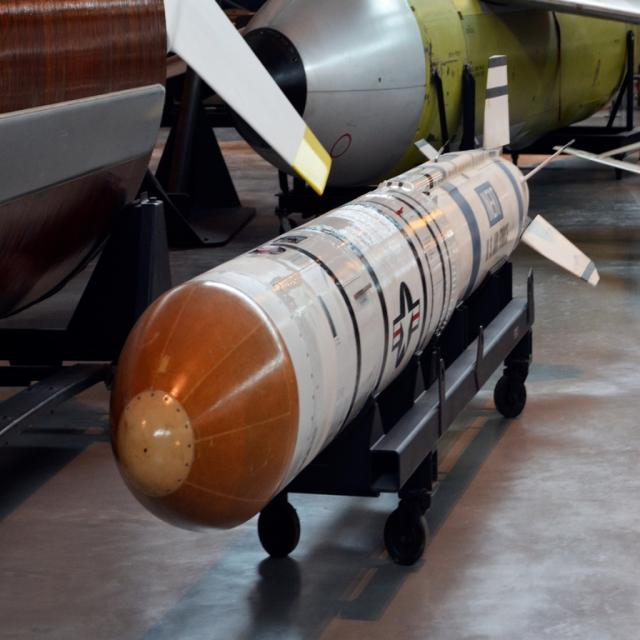rocket: (115, 59, 600, 543)
